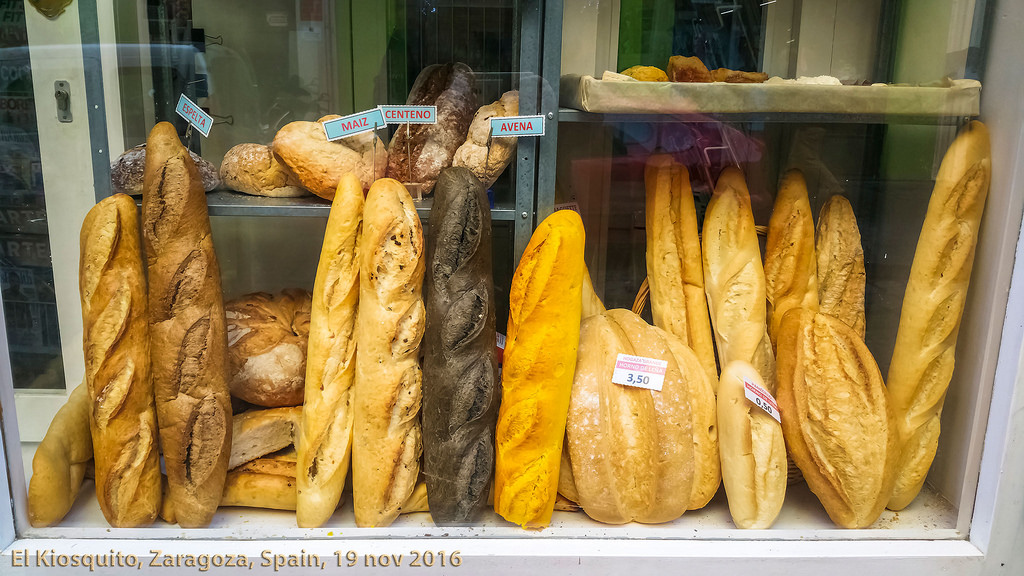slice of bread: (319, 211, 924, 495)
